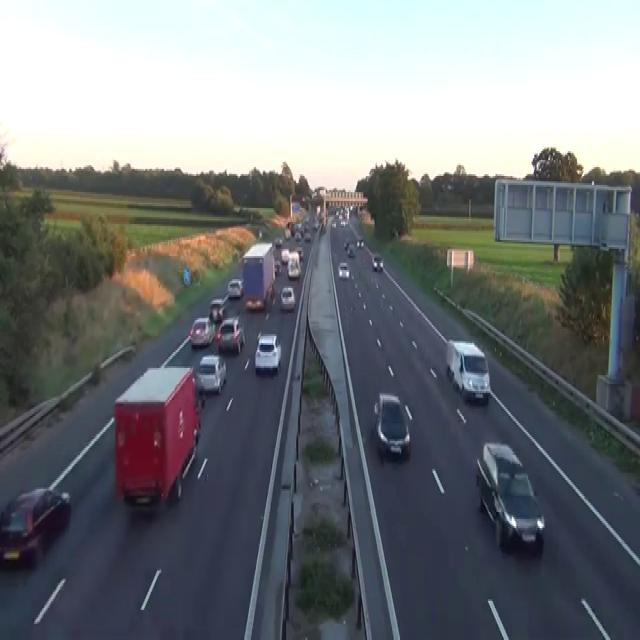Car: (475, 441, 545, 551), (0, 485, 71, 567), (446, 338, 491, 403), (373, 393, 411, 460), (194, 354, 226, 394), (254, 333, 281, 375), (216, 316, 245, 354), (188, 316, 215, 346), (209, 298, 226, 322), (280, 285, 295, 311), (286, 253, 301, 279), (227, 277, 243, 299), (372, 254, 383, 272), (337, 262, 349, 278), (281, 247, 289, 263), (295, 246, 303, 260), (274, 260, 281, 274), (347, 245, 355, 256), (274, 237, 282, 247), (283, 228, 291, 238), (343, 238, 349, 251), (304, 231, 311, 242), (294, 231, 301, 242), (356, 238, 364, 247), (313, 219, 319, 229), (286, 220, 293, 228), (340, 218, 346, 226), (321, 224, 326, 233), (258, 228, 262, 238), (331, 220, 336, 228)
Truck: (113, 364, 201, 508), (242, 242, 275, 311)
